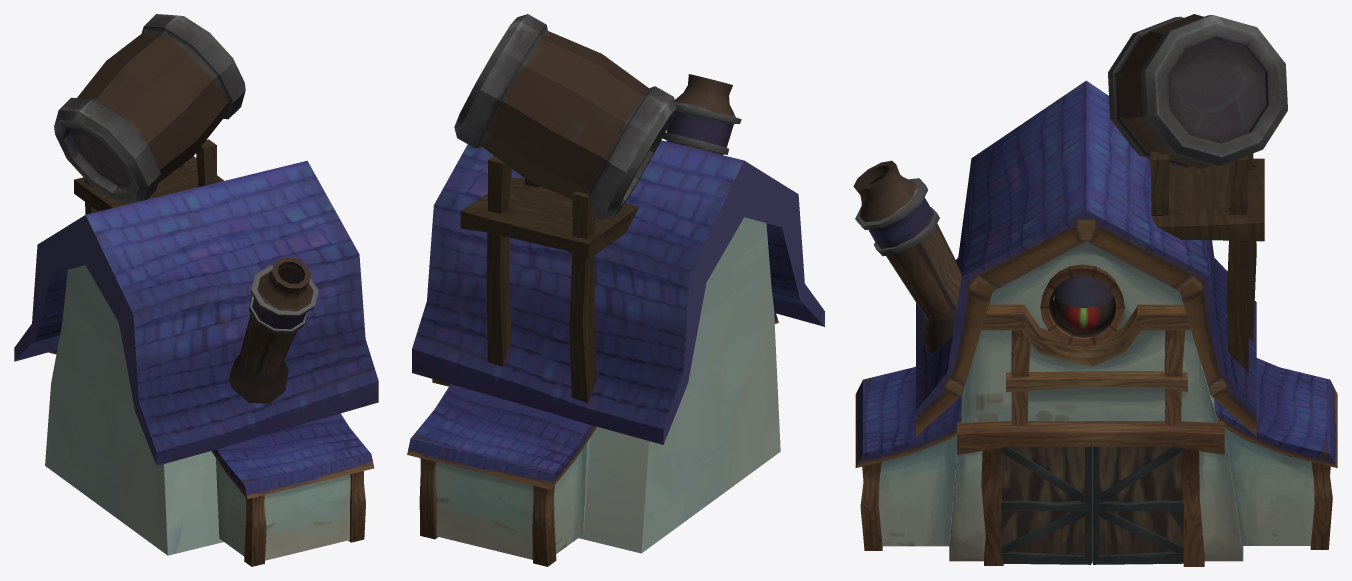
File: Evil_Barn.fbx
The picture shows the model from 3 angles, left to right: view 1: azimuth 30°, elevation 25°; view 2: azimuth 150°, elevation 25°; view 3: azimuth 270°, elevation 25°; orthographic projection. The views are drawn at different scales.
Visible parts, largest first — view 1: Evil_Barn; view 2: Evil_Barn; view 3: Evil_Barn.
Part boxes in pixels (box(x1,y1,x2,y2)): Evil_Barn: box(14, 14, 378, 566); Evil_Barn: box(407, 14, 824, 566); Evil_Barn: box(853, 14, 1337, 566).
Bounding box in the file's own units: 1077 × 1961 × 1671.
Materials: 1 (1 with a texture image).
